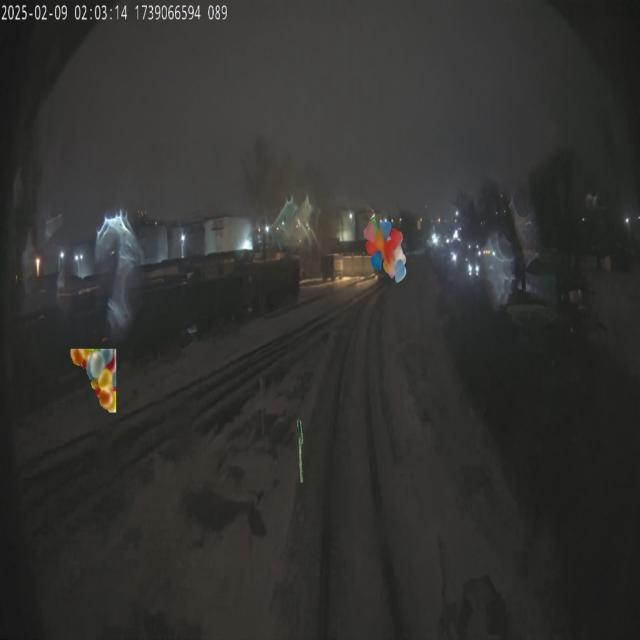balloon: (70, 348, 116, 412), (363, 218, 407, 282)
floating object: (298, 418, 304, 482)
